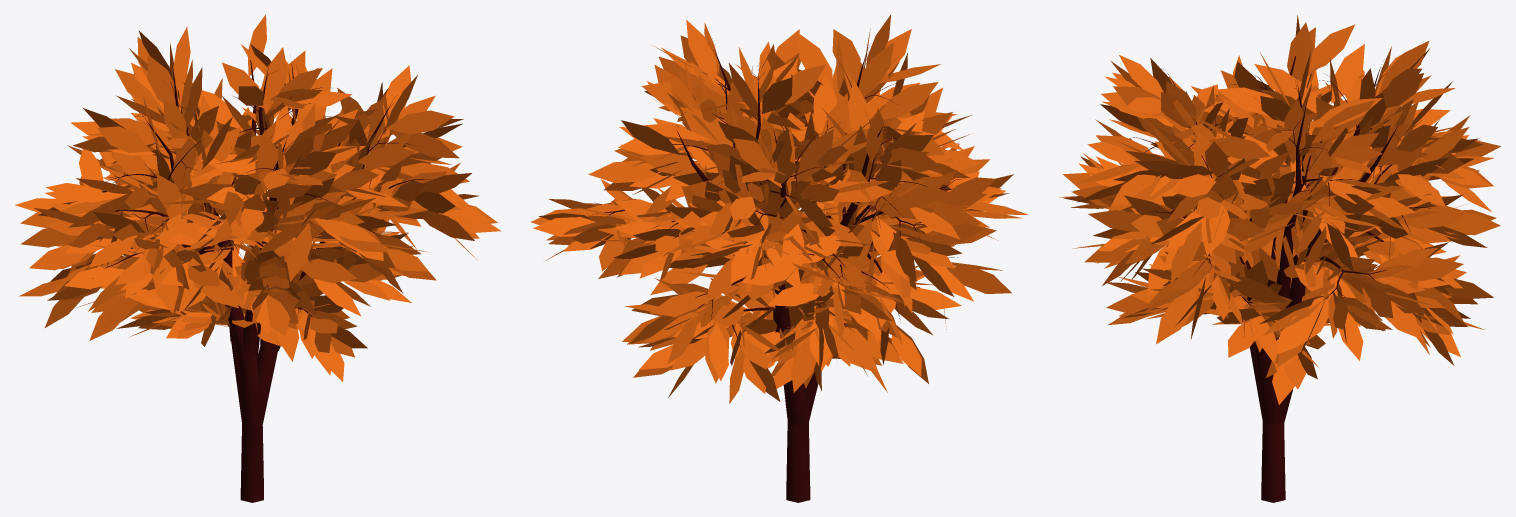
File: arvore j2.fbx
3 renders of one model, left to right at view 1: azimuth 30°, elevation 25°; view 2: azimuth 150°, elevation 25°; view 3: azimuth 270°, elevation 25°, orthographic. The views are drawn at different scales.
Parts seen in each view (by area): view 1: leaves, tree; view 2: leaves, tree; view 3: leaves, tree.
Boxes of the visible parts, <box> form: leaves: <box>15,14,501,381</box>; tree: <box>84,47,434,502</box>; leaves: <box>530,15,1028,403</box>; tree: <box>592,38,962,502</box>; leaves: <box>1059,15,1500,404</box>; tree: <box>1133,56,1436,502</box>.
Size of the model in its own units: 1976 by 1925 by 1757.
